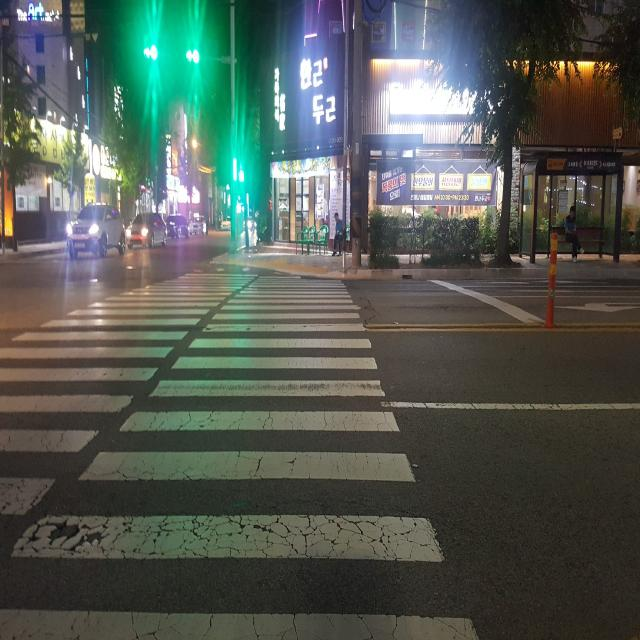초록불: (234, 160, 246, 185)
횡단보도: (0, 265, 479, 640)
